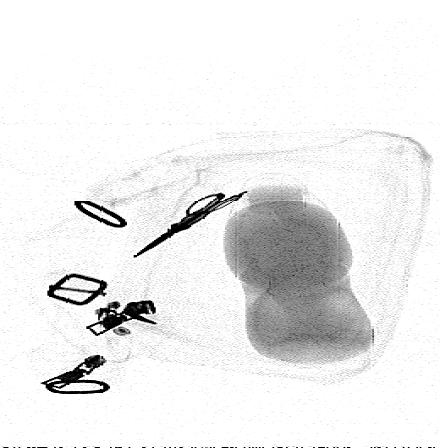Scissors: (131, 190, 242, 259)
